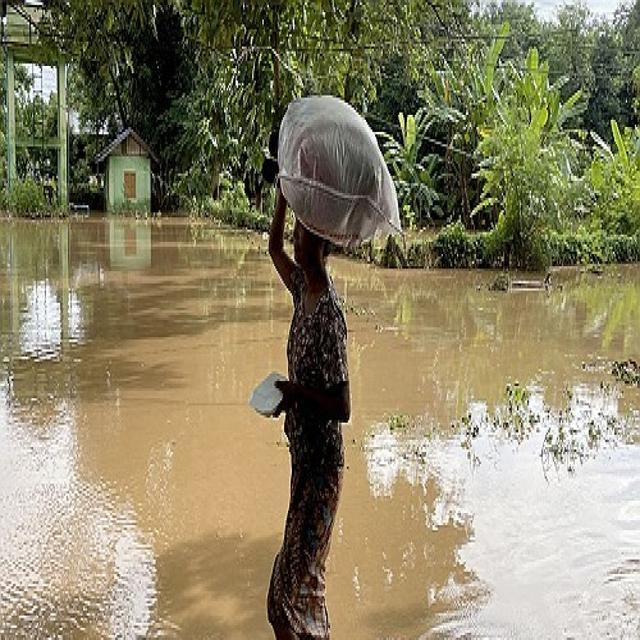Person-RiskLevel2: (251, 91, 363, 637)
